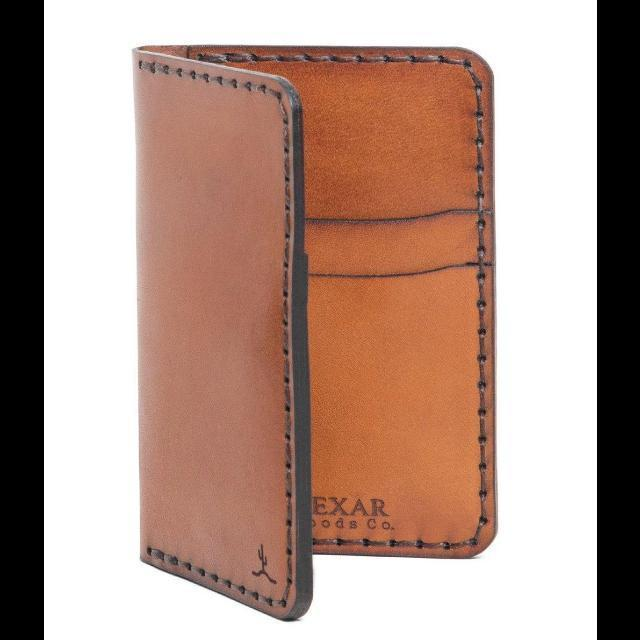wallet: (135, 44, 498, 622)
